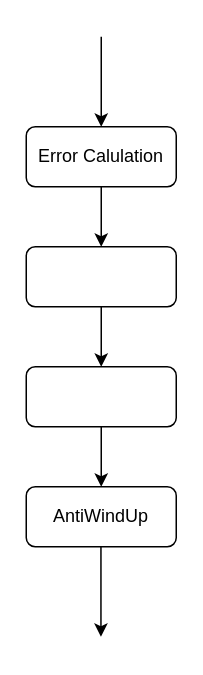
Image size: 203x675. Some labels were removed from this diagram. The centre of each missing label's shape, as x and y in pixels:
Integrate: (100,276)
Output: (100,396)
